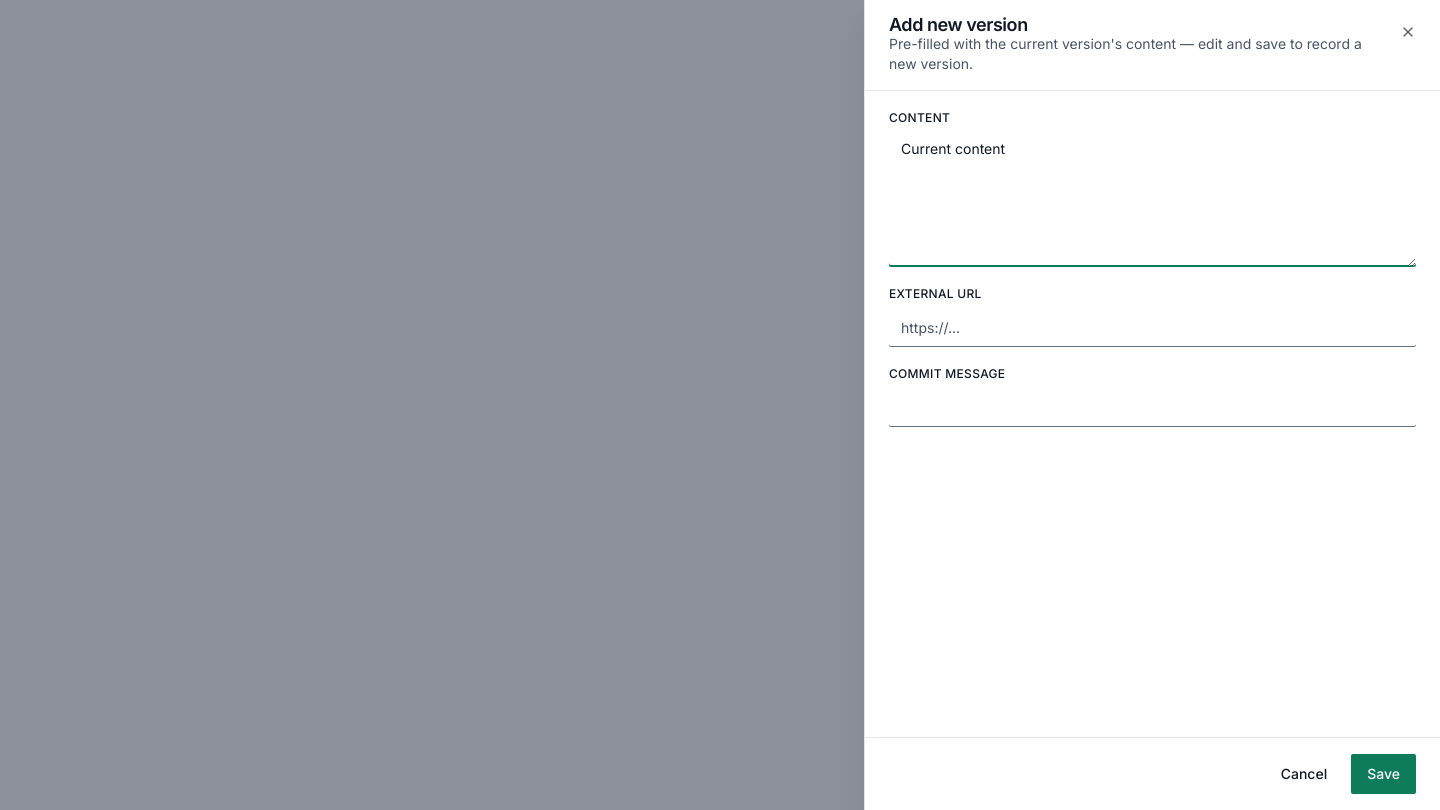
Test: ResourceEditorSheet — new-version mode › applies the same type-conditional validation as create mode (content required for runbook)
Clear the text box labelled "Content" at point(1152, 199), box [889,131,1416,267]
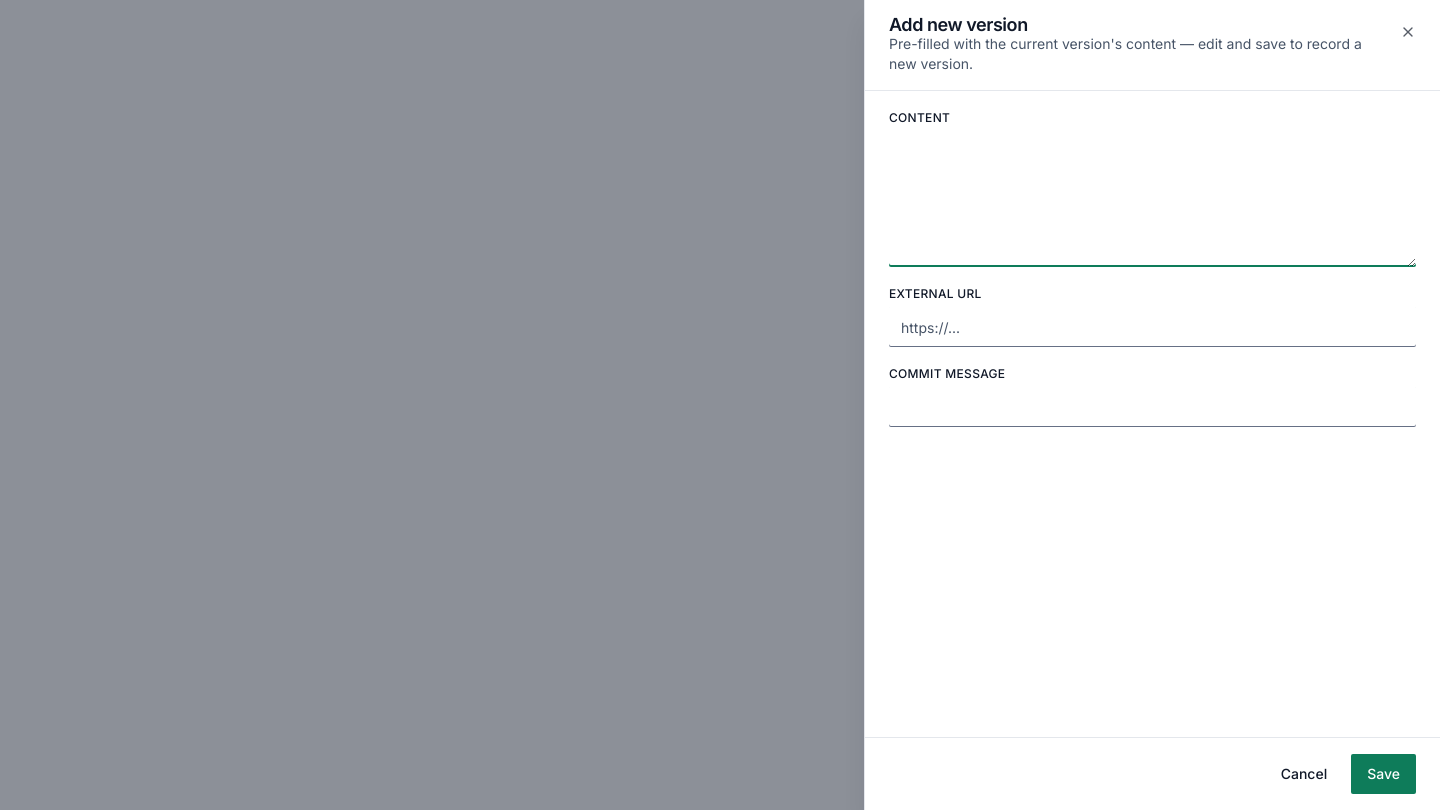
Click the button "Save" at point(1384, 774), box [1351,754,1416,794]
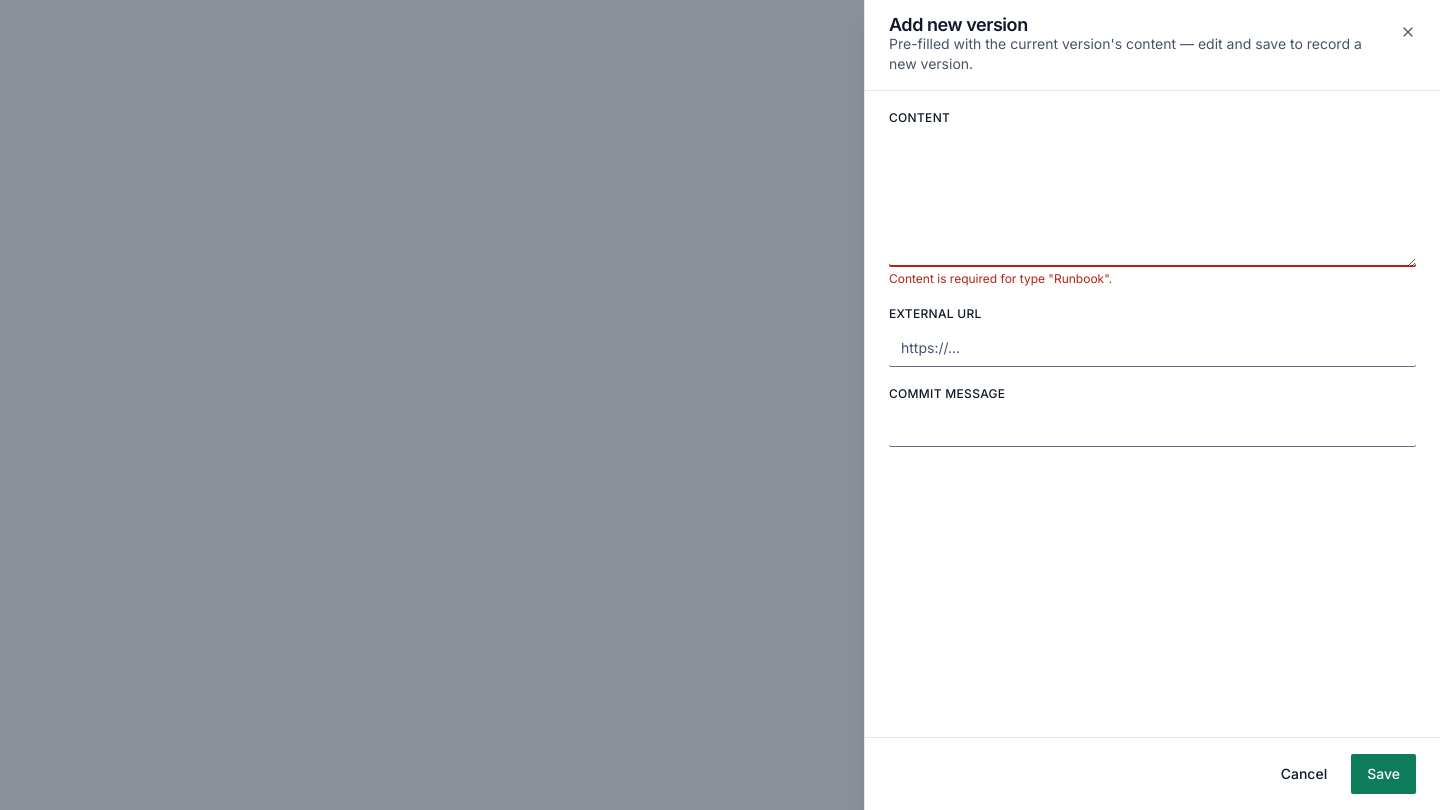
Check: the text "Content is required for type \"Runbook\"." is shown, box [889,271,1112,286]
